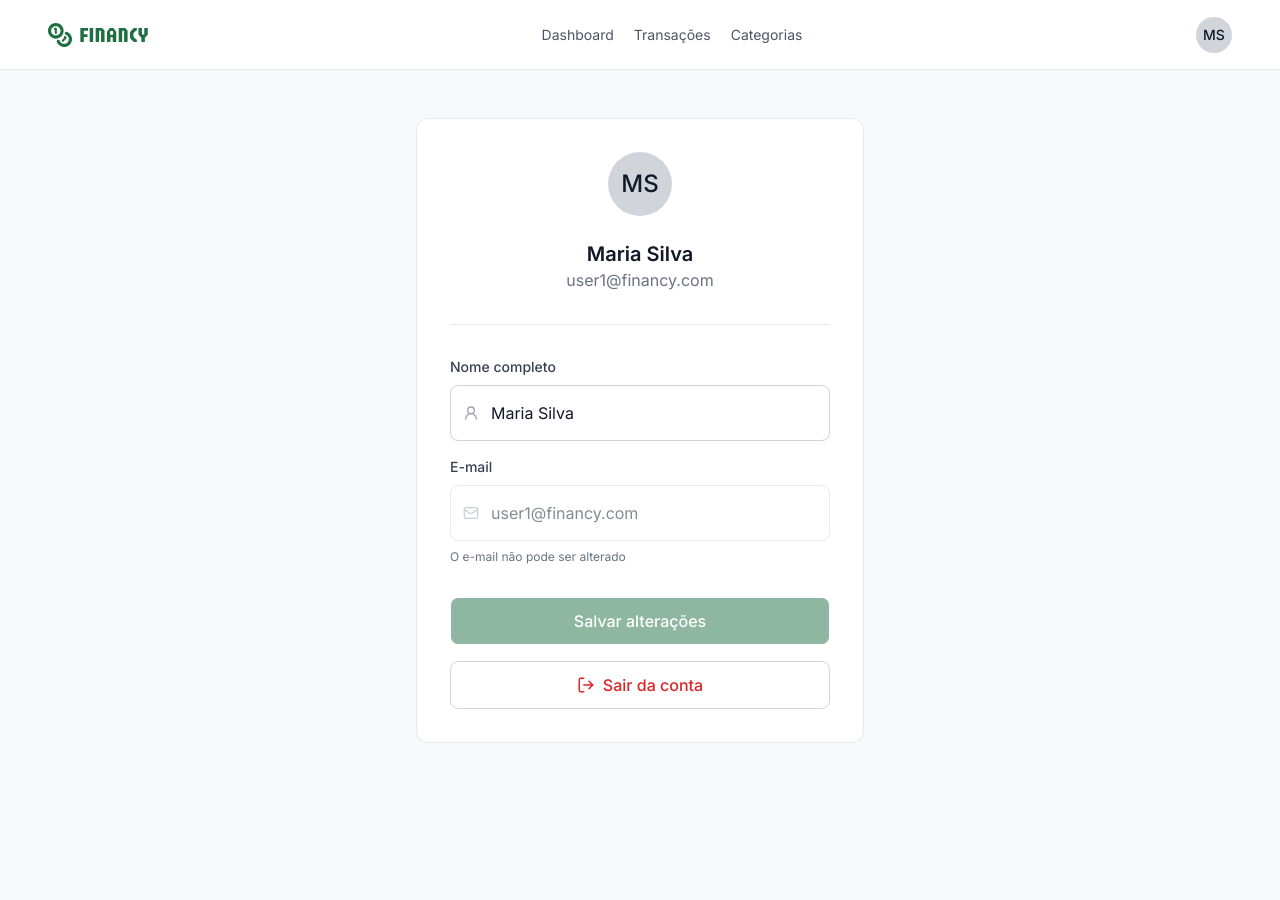
Scenario: Profile page › atualiza nome via updateUser e sessao
Replace the text in the field labelled "Nome completo" with "Maria Atualizada" at (640, 413), box [450,385,830,441]
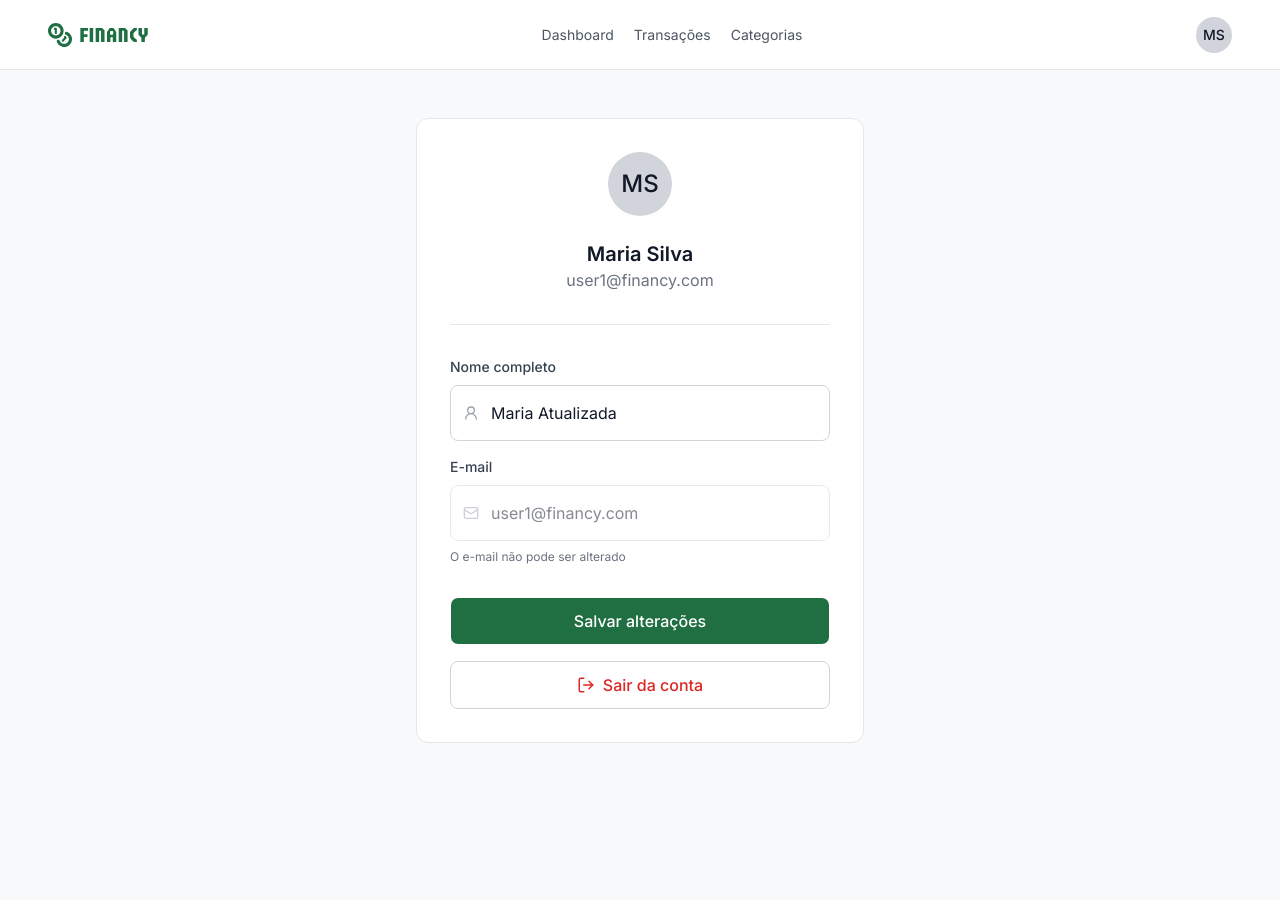
Click the button "Salvar alterações" at (640, 621), box [450,597,830,645]
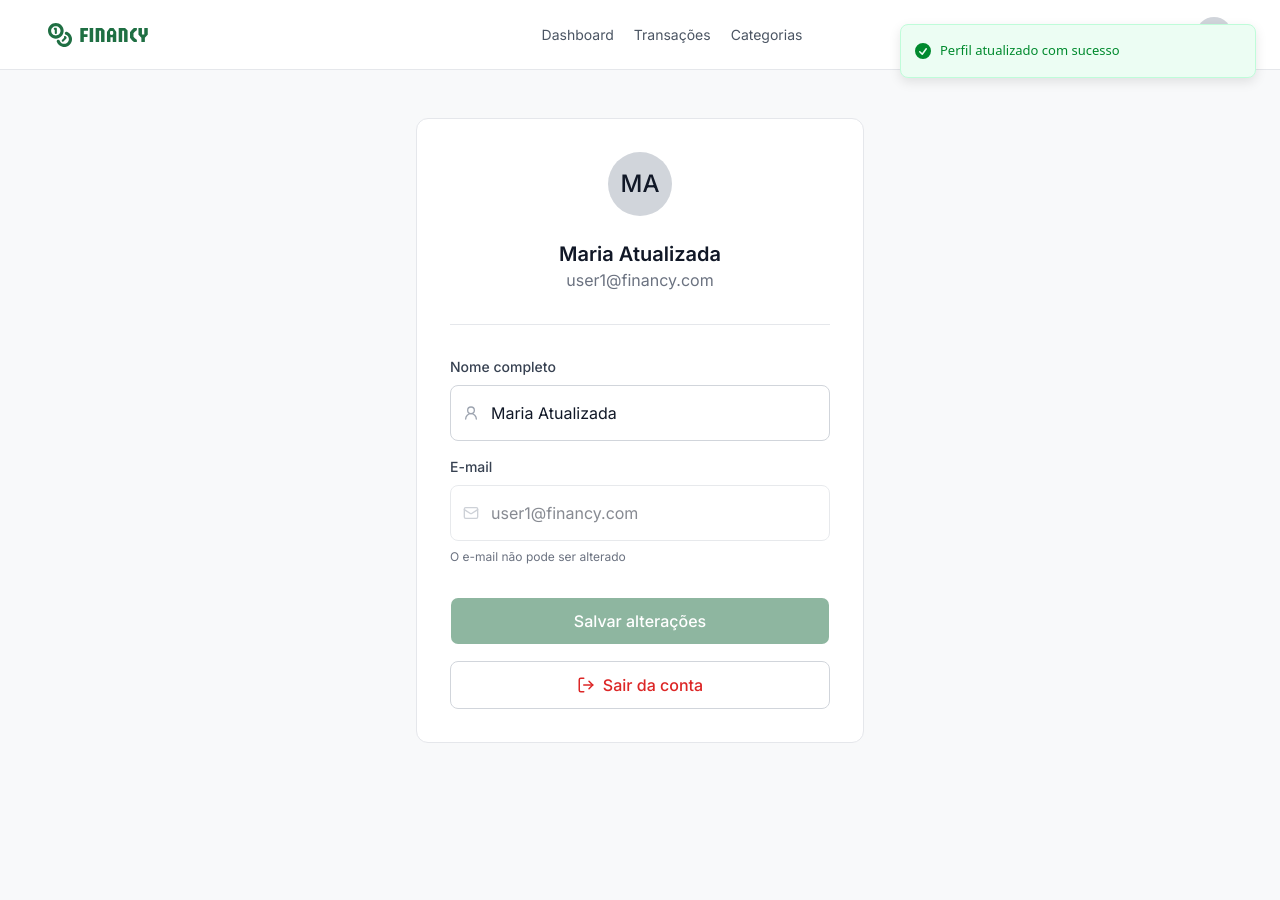
Check: the heading "Maria Atualizada" is shown, box [559,240,721,268]
